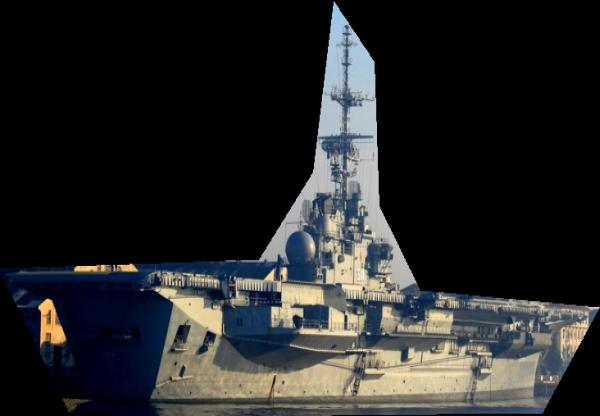Aircraft Carrier: (0, 1, 600, 416)
